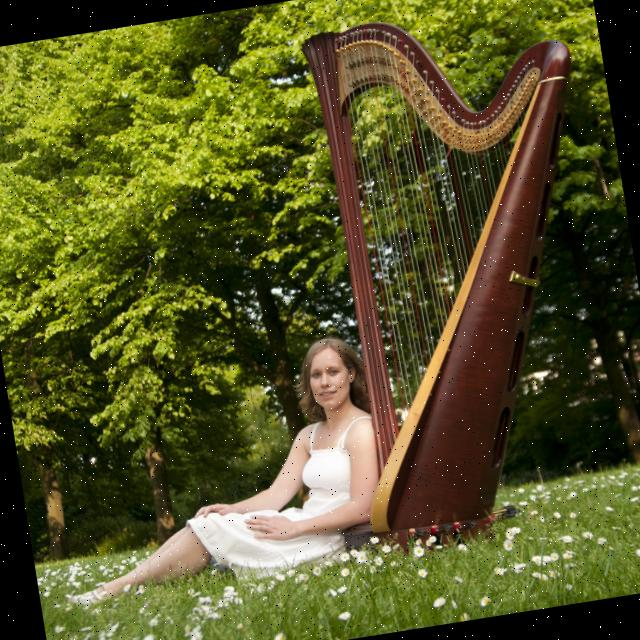harp: (297, 0, 640, 566)
